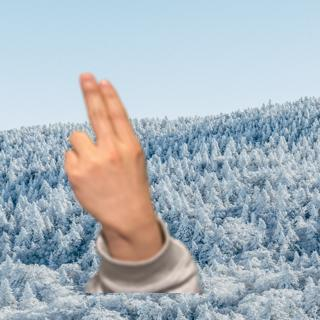DHAVE: (52, 65, 157, 235)
